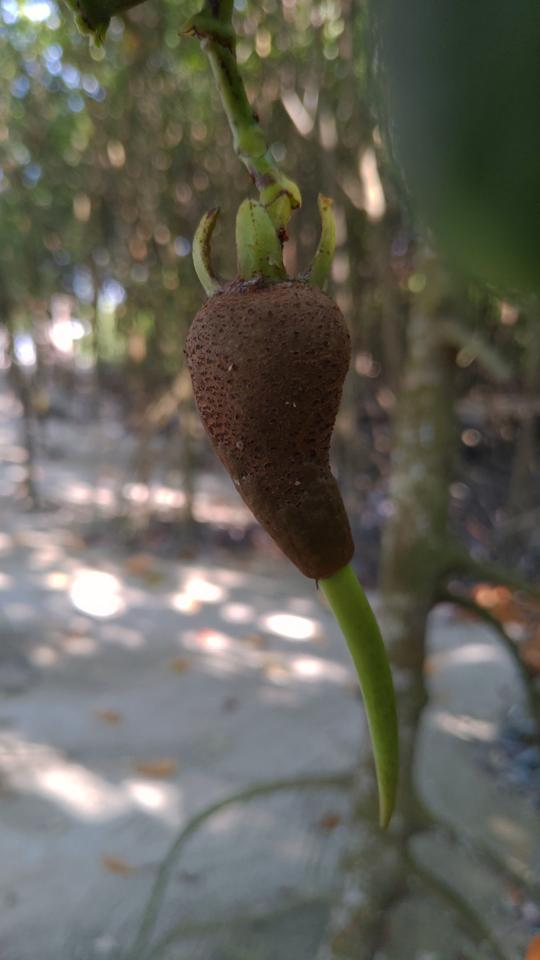mentah: (159, 223, 424, 843)
